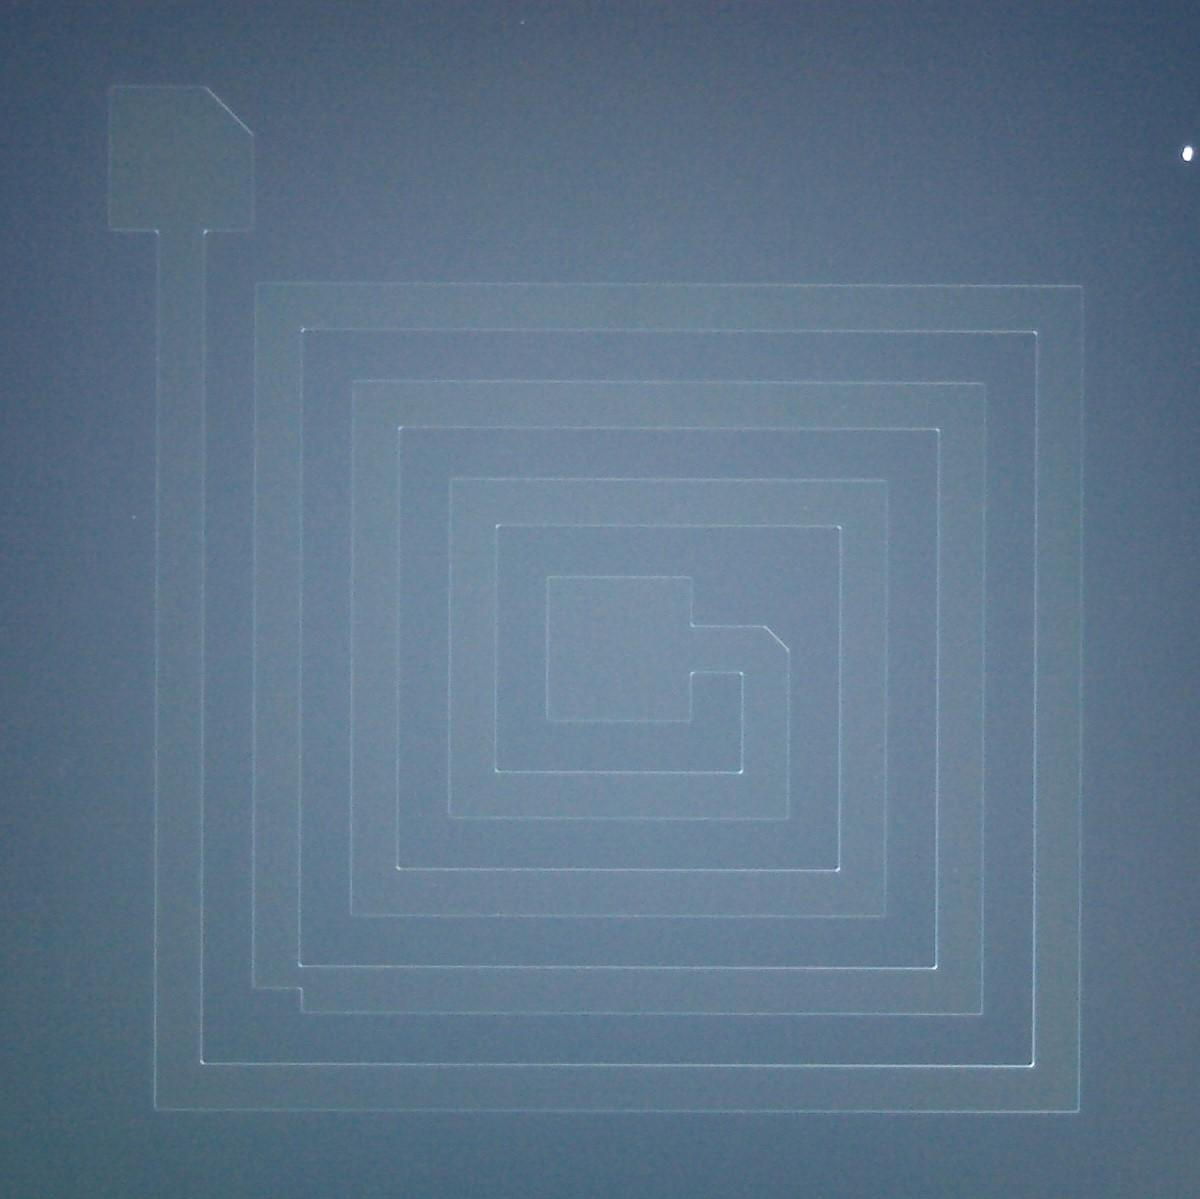B_point: (1182, 145, 1195, 163)
cut: (233, 932, 337, 1026), (189, 65, 272, 158), (751, 608, 805, 663)
